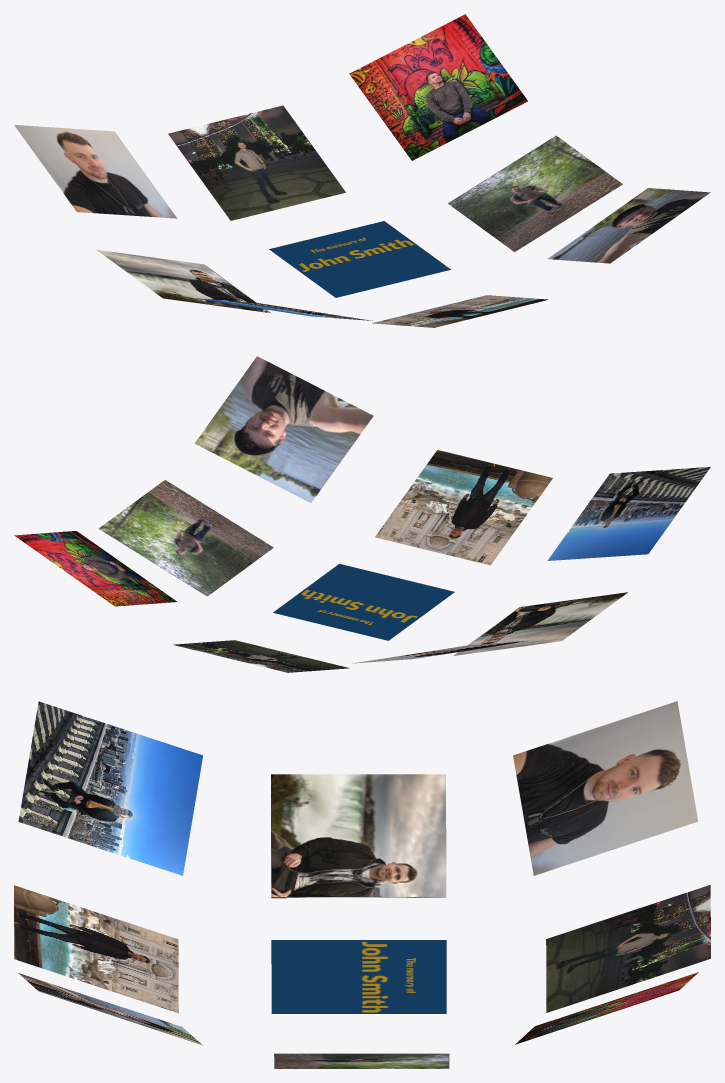
File: Thirddraft.glb
The picture shows the model from 3 angles, top to bottom: view 1: azimuth 30°, elevation 25°; view 2: azimuth 150°, elevation 25°; view 3: azimuth 270°, elevation 25°; orthographic projection. The views are drawn at different scales.
Parts seen in each view (by area): view 1: Plane.007, Plane.003, Plane.002, Plane.008, Plane, Plane.006, Plane.004, Plane.001, Plane.005; view 2: Plane.006, Plane.001, Plane.002, Plane.005, Plane, Plane.007, Plane.004, Plane.003, Plane.008; view 3: Plane.004, Plane.008, Plane.005, Plane, Plane.003, Plane.001, Plane.002, Plane.007, Plane.006.
Boxes of the visible parts, box(x1,y1,x2,y2) form: Plane.007: box(349, 14, 527, 160); Plane.003: box(168, 105, 345, 220); Plane.002: box(448, 135, 622, 252); Plane.008: box(14, 125, 177, 218); Plane: box(269, 221, 450, 297); Plane.006: box(548, 188, 710, 263); Plane.004: box(96, 249, 270, 312); Plane.001: box(372, 295, 548, 327); Plane.005: box(197, 298, 372, 320); Plane.006: box(194, 356, 373, 502); Plane.001: box(375, 450, 552, 565); Plane.002: box(98, 480, 273, 596); Plane.005: box(547, 467, 710, 560); Plane: box(273, 564, 454, 640); Plane.007: box(14, 531, 177, 606); Plane.004: box(453, 592, 627, 655); Plane.003: box(173, 640, 349, 672); Plane.008: box(352, 641, 527, 663); Plane.004: box(271, 774, 446, 898); Plane.008: box(513, 701, 698, 875); Plane.005: box(18, 701, 202, 875); Plane: box(271, 940, 446, 1013); Plane.003: box(546, 885, 710, 1012); Plane.001: box(14, 885, 178, 1013); Plane.002: box(274, 1053, 449, 1068); Plane.007: box(515, 972, 698, 1044); Plane.006: box(18, 973, 202, 1045).
Bounding box in the file's own units: 7.99 × 1.66 × 7.96.
9 materials, 9 textured.
